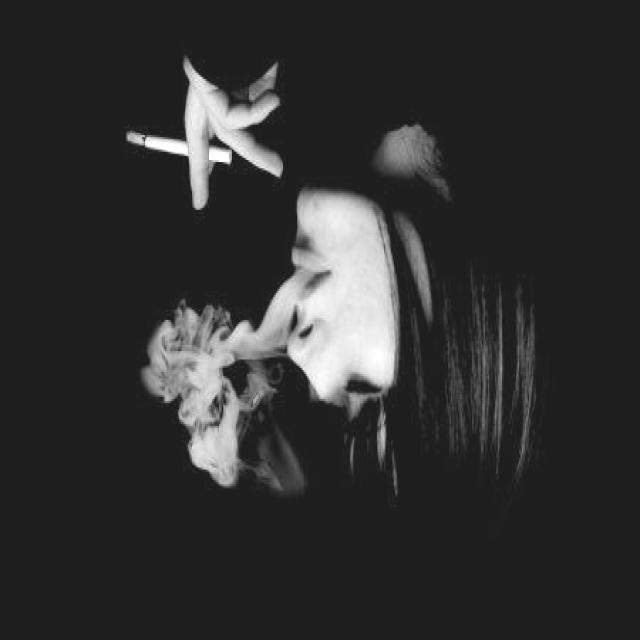cigarette: (123, 119, 245, 189)
